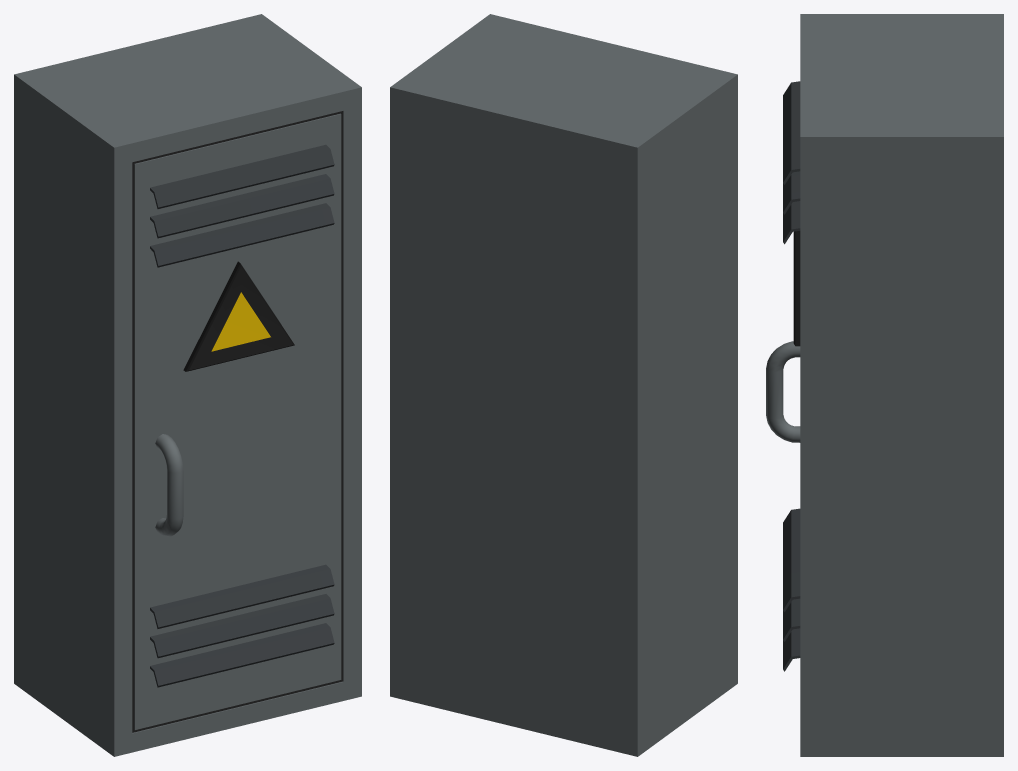
Rendered from Prop_ElectracityCabinet_02.fbx.
3 renders of one model, left to right at view 1: azimuth 30°, elevation 25°; view 2: azimuth 150°, elevation 25°; view 3: azimuth 270°, elevation 25°, orthographic.
Parts seen in each view (by area): view 1: Prop_ElectracityCabinet_02; view 2: Prop_ElectracityCabinet_02; view 3: Prop_ElectracityCabinet_02.
Part boxes in pixels (box(x1,y1,x2,y2)): Prop_ElectracityCabinet_02: box(14, 14, 361, 756); Prop_ElectracityCabinet_02: box(390, 14, 737, 756); Prop_ElectracityCabinet_02: box(766, 14, 1003, 756).
Size of the model in its own units: 64 by 150 by 52.31.
Materials: 1 (1 with a texture image).
